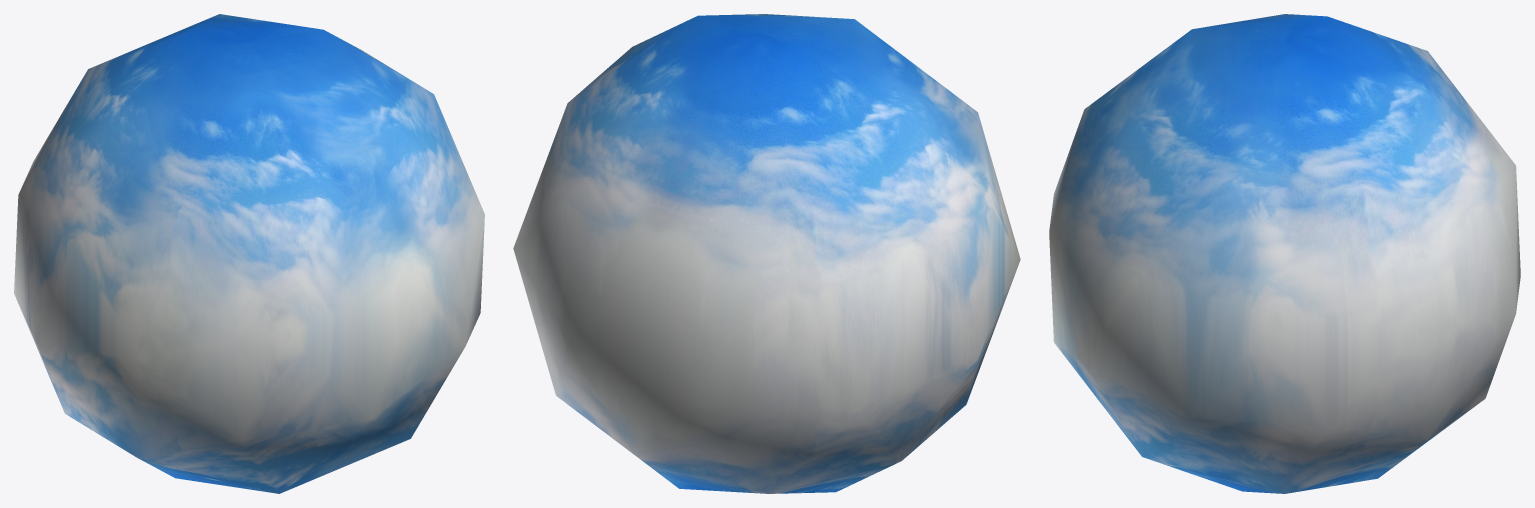
The model's file is sky.obj.
The picture shows the model from 3 angles, left to right: view 1: azimuth 30°, elevation 25°; view 2: azimuth 150°, elevation 25°; view 3: azimuth 270°, elevation 25°; orthographic projection. The views are drawn at different scales.
Visible parts, largest first — view 1: Icosphere.003; view 2: Icosphere.003; view 3: Icosphere.003.
Boxes of the visible parts, x1,y1,x2,y2 form: Icosphere.003: (14,14,484,493); Icosphere.003: (513,14,1020,493); Icosphere.003: (1049,14,1520,493).
Bounding box in the file's own units: 5030 × 4964 × 4845.
1 material, 1 textured.
